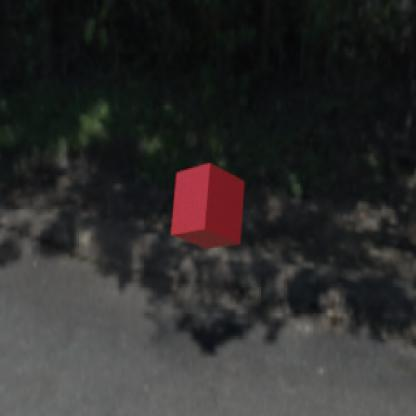cube: (170, 161, 244, 250)
